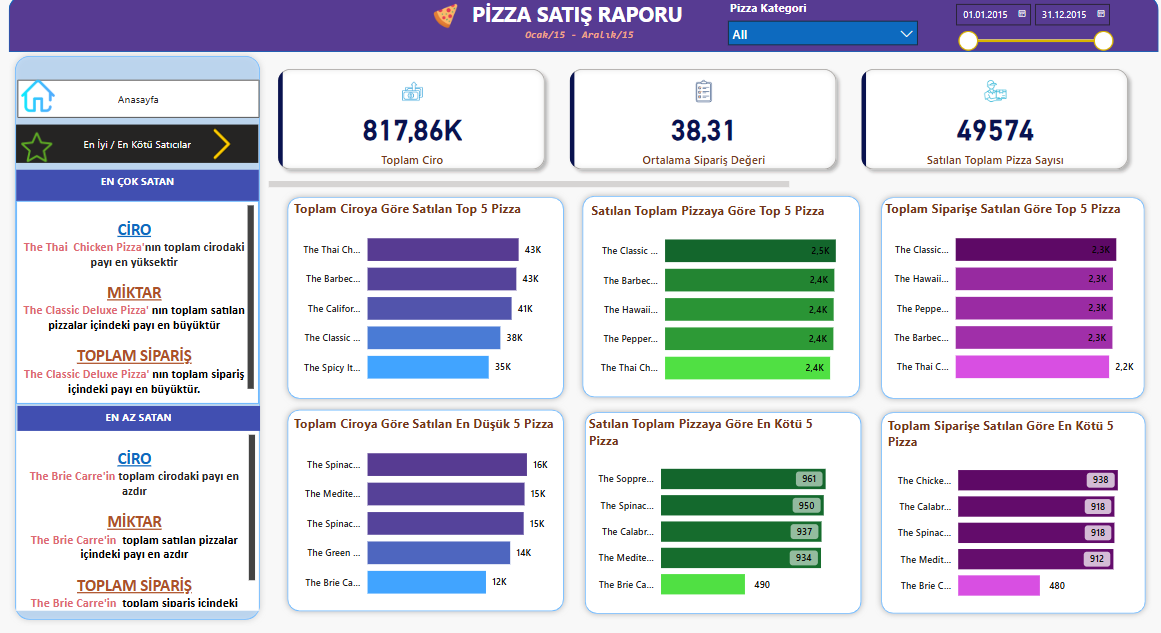

What the dashboard file says about the page in this screenshot:
{"tool":"powerbi","page":{"name":"En İyi / En Kötü Satıcılar","canvas":[1500,820],"ordinal":1},"visuals":[{"type":"cardVisual","fields":{"Data":["pizza_sales1.Toplam Ciro","pizza_sales1.Ortalama Sipariş Değeri","pizza_sales1.Satılan Toplam Pizza Sayısı","pizza_sales1.Toplam Sipariş Sayısı","pizza_sales1.Sipariş Başına Düşen Pizza Sayısı"]},"box":[347.3,77.2,1128.9,176.9],"z":0},{"type":"shape","box":[17.7,0,1479.4,72.4],"z":1000},{"type":"textbox","box":[603.7,0,292.1,48.9],"z":2000},{"type":"textbox","box":[676.3,34.9,188.7,27.9],"z":3000},{"type":"image","box":[554.8,4.2,48.9,41.9],"z":4000},{"type":"shape","box":[368.9,250.1,371.7,275.3],"z":5000},{"type":"shape","box":[17.7,69.1,331.3,741.3],"z":6000},{"type":"textbox","box":[29.3,528.2,311.6,32.1],"z":7000},{"type":"textbox","box":[27.3,263.7,312,260.5],"z":8000},{"type":"textbox","box":[27.3,223.5,312,40.2],"z":9000},{"type":"textbox","box":[27.3,559.6,312,231.6],"z":10000},{"type":"slicer","fields":{"Values":["pizza_sales1.pizza_category"]},"box":[932.1,0,264.1,68.5],"z":11000},{"type":"slicer","fields":{"Values":["pizza_sales1.order_date"]},"box":[1223.7,0,223.5,70.8],"z":12000},{"type":"shape","box":[747.6,248.7,373.1,275.3],"z":13000},{"type":"shape","box":[1131.9,250.1,354.9,275.3],"z":14000},{"type":"shape","box":[368.9,524,371.7,275.3],"z":15000},{"type":"shape","box":[750.4,528.2,371.7,275.3],"z":16000},{"type":"shape","box":[1131.9,528.2,356.3,275.3],"z":17000},{"type":"barChart","title":"Toplam Ciroya Göre Satılan Top 5 Pizza","fields":{"Category":["pizza_sales1.pizza_name"],"Y":["pizza_sales1.Toplam Ciro"]},"box":[378.7,262.7,349.4,251.5],"z":18000},{"type":"barChart","title":"Toplam Ciroya Göre Satılan En Düşük 5 Pizza","fields":{"Category":["pizza_sales1.pizza_name"],"Y":["pizza_sales1.Toplam Ciro"]},"box":[380.1,538,349.4,251.5],"z":19000},{"type":"barChart","title":"Satılan Toplam Pizzaya Göre Top 5 Pizza","fields":{"Category":["pizza_sales1.pizza_name"],"Y":["pizza_sales1.Satılan Toplam Pizza Sayısı"]},"box":[762.2,263.7,349,250.9],"z":20000},{"type":"barChart","title":"Satılan Toplam Pizzaya Göre En Kötü 5 Pizza","fields":{"Category":["pizza_sales1.pizza_name"],"Y":["pizza_sales1.Satılan Toplam Pizza Sayısı"]},"box":[759,538.7,339.3,250.9],"z":21000},{"type":"barChart","title":"Toplam Siparişe Satılan Göre Top 5 Pizza","fields":{"Category":["pizza_sales1.pizza_name"],"Y":["pizza_sales1.Toplam Sipariş Sayısı"]},"box":[1140.1,262.1,332.9,250.9],"z":22000},{"type":"barChart","title":"Toplam Siparişe Satılan Göre En Kötü 5 Pizza","fields":{"Category":["pizza_sales1.pizza_name"],"Y":["pizza_sales1.Toplam Sipariş Sayısı"]},"box":[1143.3,540.3,332.9,250.9],"z":23000},{"type":"pageNavigator","box":[27.3,165.6,312,49.9],"z":24000},{"type":"pageNavigator","box":[28.9,107.7,312,49.9],"z":25000},{"type":"image","box":[266.9,173.7,49.9,53.1],"z":26000},{"type":"image","box":[28.9,99.7,53.1,57.9],"z":27000},{"type":"image","box":[28.9,165.6,49.9,57.9],"z":28000}]}

Visuals, with their boxes in screenshot pixels (x1, y1, x2, y2), scaled from the page's 1500x820 canvas onto the 1161x633 screenshot:
cardVisual - pizza_sales1.Toplam Ciro x pizza_sales1.Ortalama Sipariş Değeri: rect(269, 60, 1143, 196)
shape: rect(14, 0, 1159, 56)
textbox: rect(467, 0, 693, 38)
textbox: rect(523, 27, 670, 48)
image: rect(429, 3, 467, 36)
shape: rect(286, 193, 573, 406)
shape: rect(14, 53, 270, 626)
textbox: rect(23, 408, 264, 433)
textbox: rect(21, 204, 263, 405)
textbox: rect(21, 173, 263, 204)
textbox: rect(21, 432, 263, 611)
slicer - pizza_sales1.pizza_category: rect(721, 0, 926, 53)
slicer - pizza_sales1.order_date: rect(947, 0, 1120, 55)
shape: rect(579, 192, 867, 405)
shape: rect(876, 193, 1151, 406)
shape: rect(286, 405, 573, 617)
shape: rect(581, 408, 869, 620)
shape: rect(876, 408, 1152, 620)
"Toplam Ciroya Göre Satılan Top 5 Pizza" barChart: rect(293, 203, 564, 397)
"Toplam Ciroya Göre Satılan En Düşük 5 Pizza" barChart: rect(294, 415, 565, 609)
"Satılan Toplam Pizzaya Göre Top 5 Pizza" barChart: rect(590, 204, 860, 397)
"Satılan Toplam Pizzaya Göre En Kötü 5 Pizza" barChart: rect(587, 416, 850, 610)
"Toplam Siparişe Satılan Göre Top 5 Pizza" barChart: rect(882, 202, 1140, 396)
"Toplam Siparişe Satılan Göre En Kötü 5 Pizza" barChart: rect(885, 417, 1143, 611)
pageNavigator: rect(21, 128, 263, 166)
pageNavigator: rect(22, 83, 264, 122)
image: rect(207, 134, 245, 175)
image: rect(22, 77, 63, 122)
image: rect(22, 128, 61, 173)
